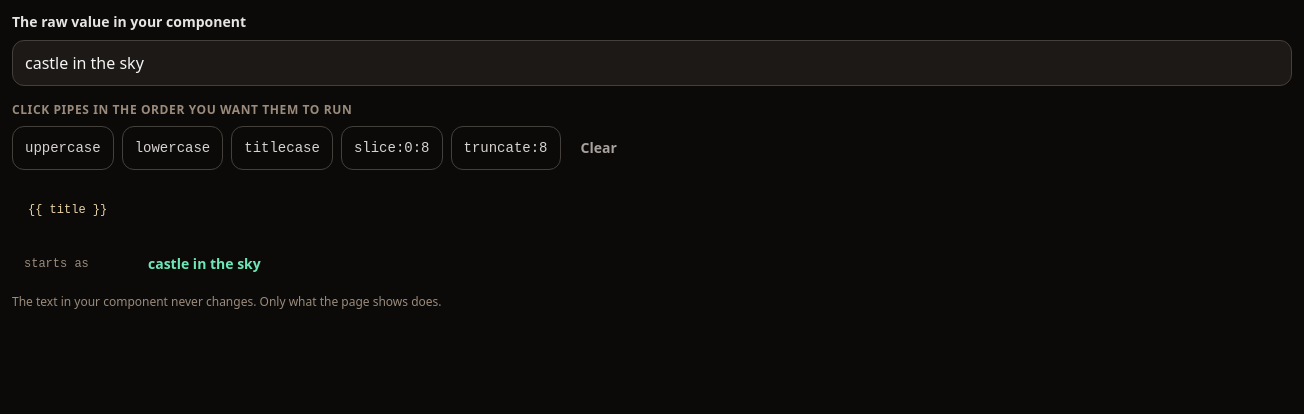
Test: PipeChainDemoComponent › takes a pipe out of the chain when it is clicked again, and Clear removes them all
What coordinates should you click on to do the following:
click the button "uppercase"
I would click on:
 (63, 148)
Its box is [12,126,114,170].
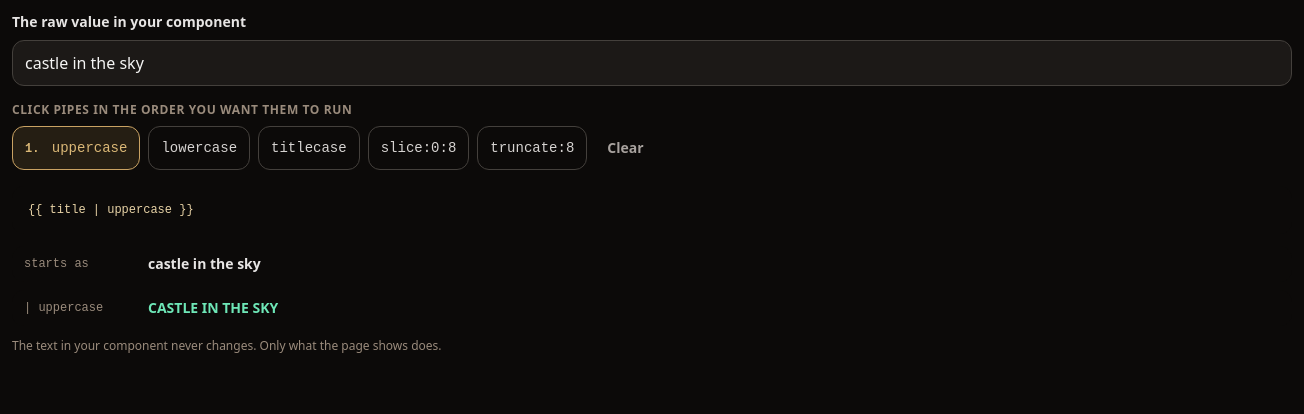
What coordinates should you click on to do the following:
click the button "slice:0:8"
I would click on:
 (418, 148)
Its box is [368,126,469,170].
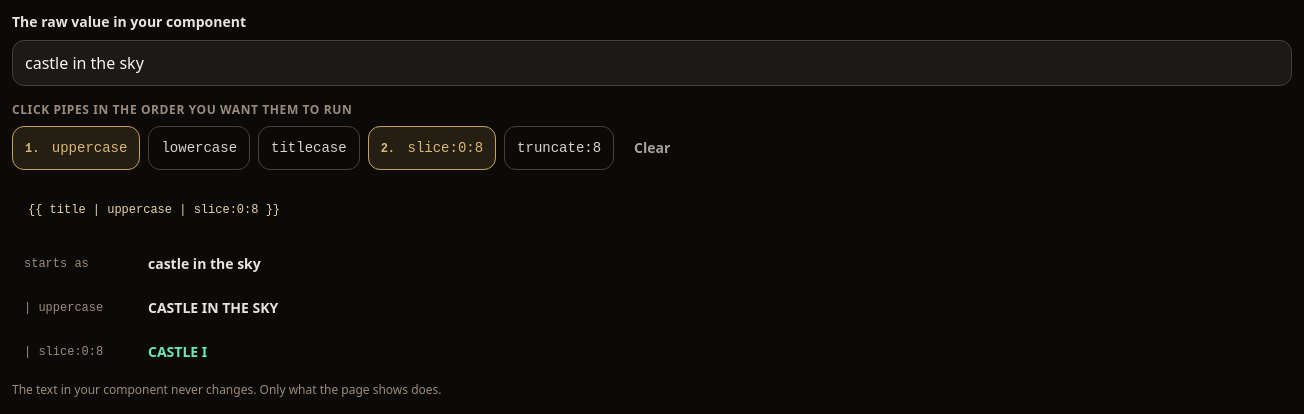
What coordinates should you click on to do the following:
click the button "1. uppercase"
I would click on:
 (76, 148)
Its box is [12,126,140,170].
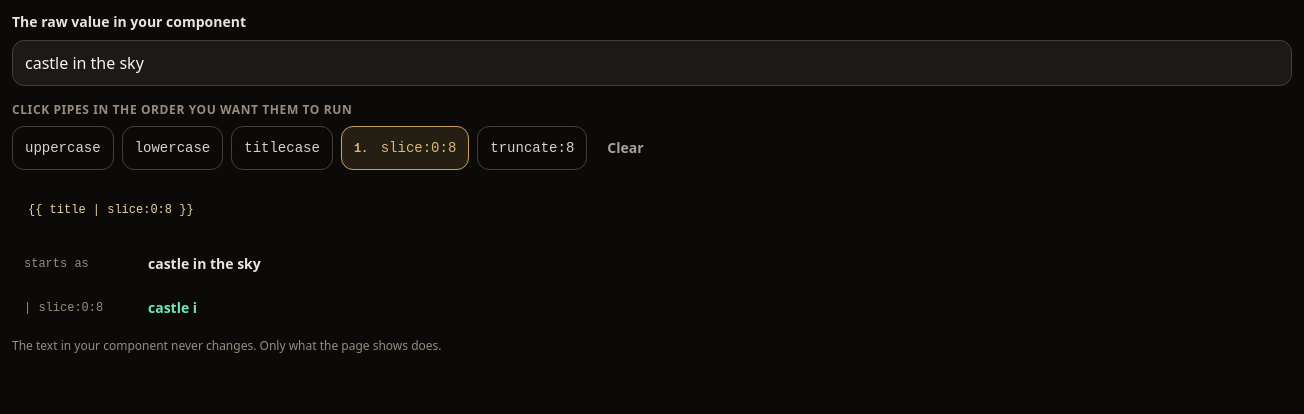
Expected: the text "{{ title | slice:0:8 }}" is shown, [12,186,1292,234]
What coordinates should you click on to do the following:
click the button "Clear"
I would click on:
 (625, 148)
Its box is [595,126,656,170].
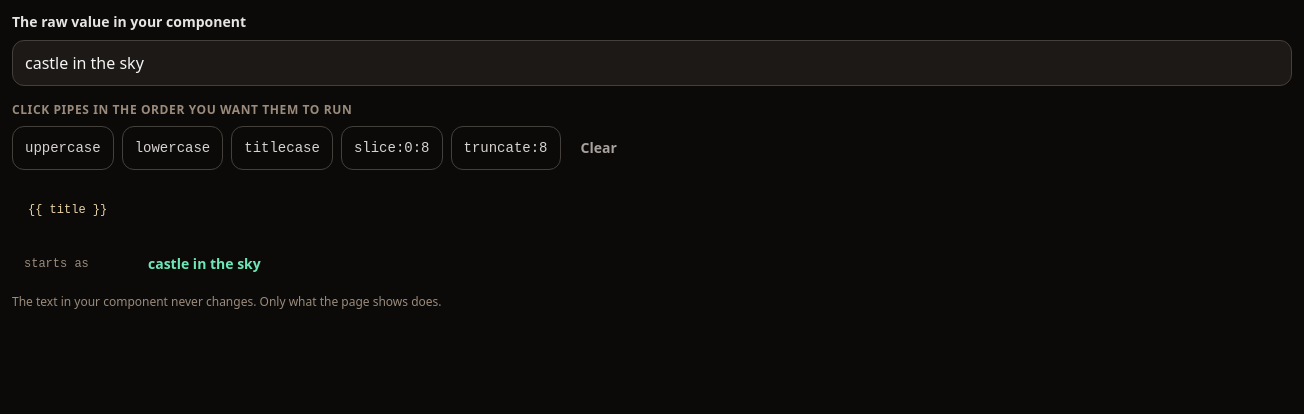
Now the text "{{ title }}" is shown, box [12,186,1292,234]
